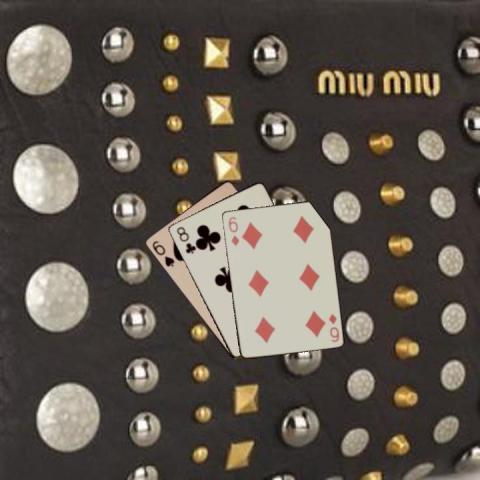6d: (325, 311, 341, 343), (225, 214, 240, 248)
6s: (149, 237, 175, 268)
8c: (173, 223, 196, 255)
